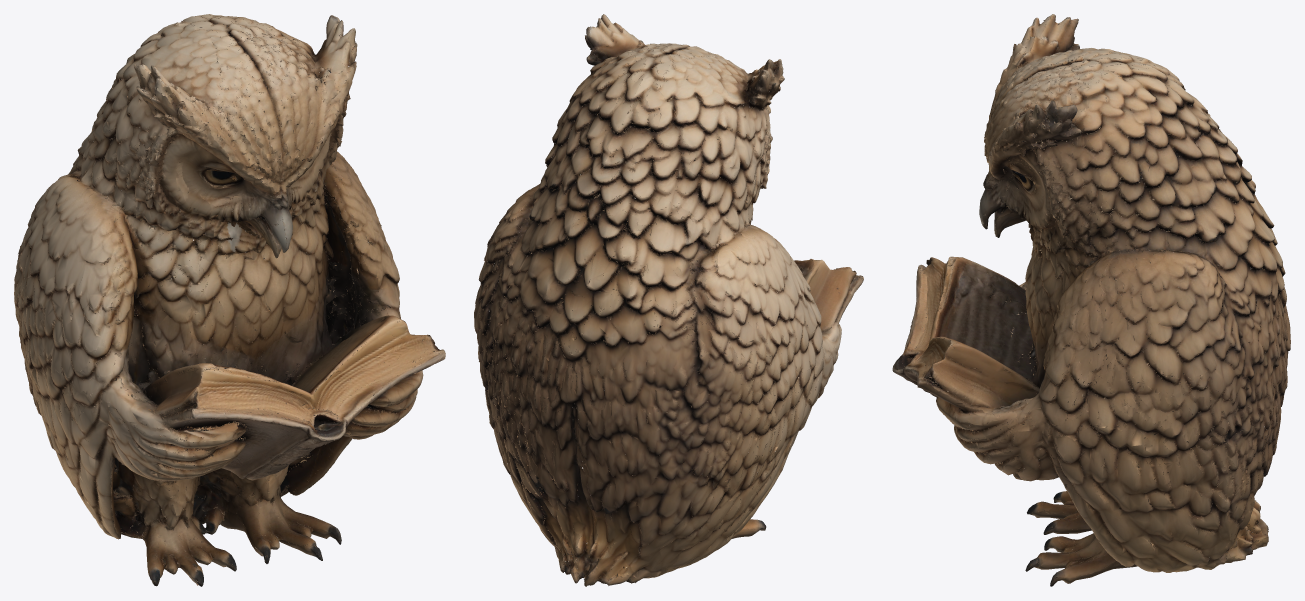
The model's file is Corujafinal-v1.glb.
3 views of the same model, side by side, from view 1: azimuth 30°, elevation 25°; view 2: azimuth 150°, elevation 25°; view 3: azimuth 270°, elevation 25° (orthographic). The views are drawn at different scales.
Parts seen in each view (by area): view 1: Mesh_0.001; view 2: Mesh_0.001; view 3: Mesh_0.001.
Part boxes in pixels (x1,y1,x2,y2): Mesh_0.001: [14, 14, 445, 586]; Mesh_0.001: [474, 14, 863, 586]; Mesh_0.001: [892, 14, 1290, 586].
Bounding box in the file's own units: 1.32 × 2 × 1.47.
1 material, 1 textured.
